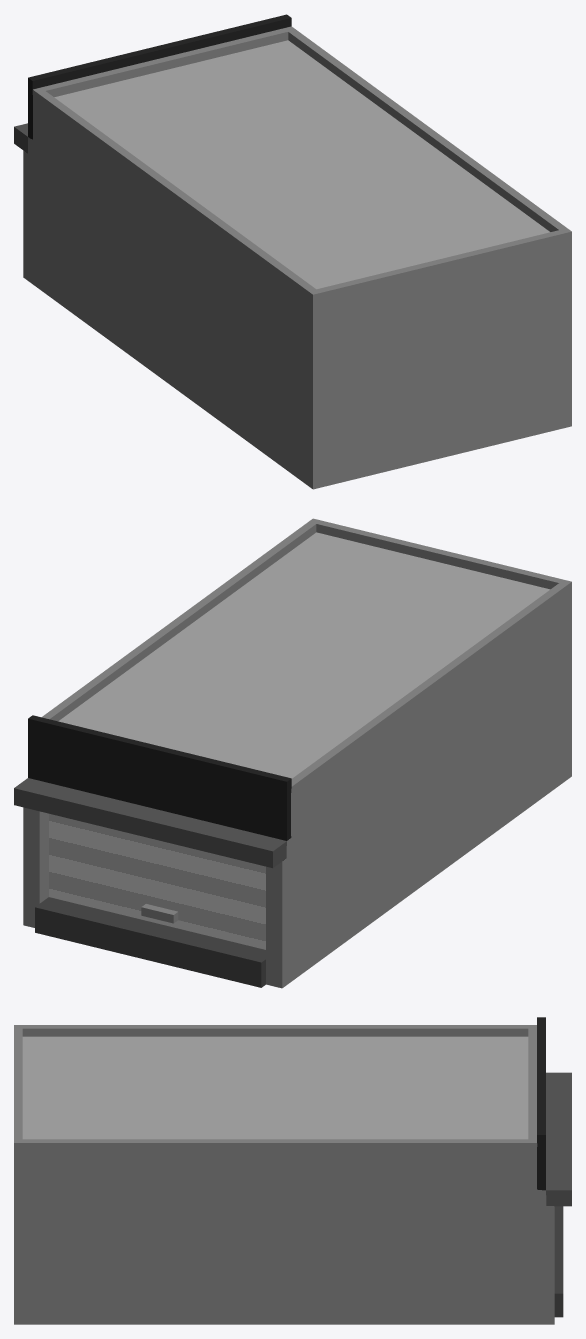
Rendered from obj_store08.fbx.
3 renders of one model, top to bottom at view 1: azimuth 30°, elevation 25°; view 2: azimuth 150°, elevation 25°; view 3: azimuth 270°, elevation 25°, orthographic. The views are drawn at different scales.
Parts seen in each view (by area): view 1: obj_store08; view 2: obj_store08; view 3: obj_store08.
Part boxes in pixels (x1=…): obj_store08: x1=14, y1=14, x2=571, y2=489; obj_store08: x1=14, y1=518, x2=571, y2=988; obj_store08: x1=14, y1=1017, x2=571, y2=1324.
Bounding box in the file's own units: 3.2 × 6.4 × 2.4.
1 material, 1 textured.
